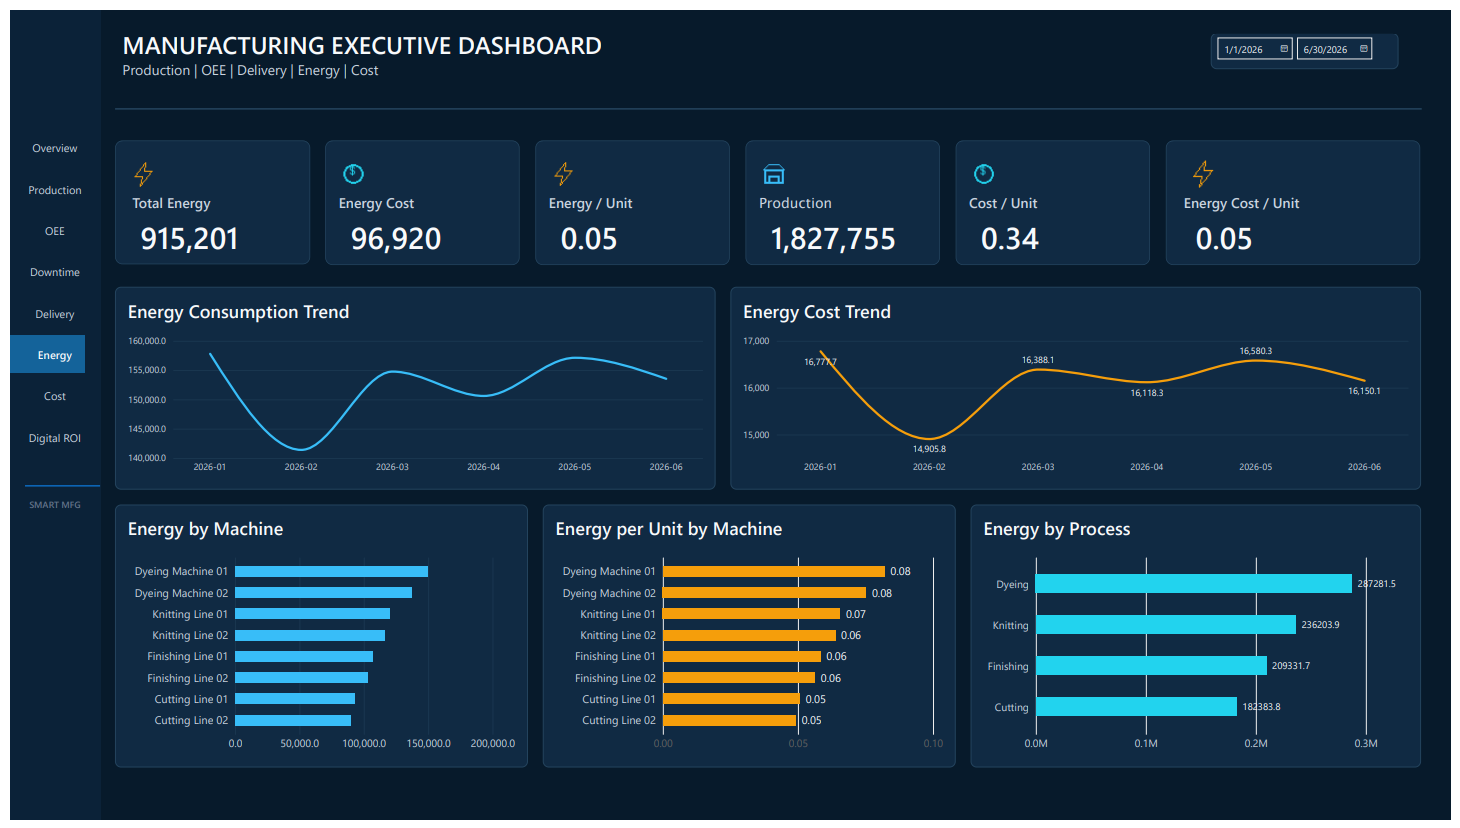

The dashboard page shown, as its layout file describes it:
{"tool":"powerbi","page":{"name":"Energy","canvas":[1920,1080],"ordinal":5},"visuals":[{"type":"textbox","box":[150,25,900,85],"z":0},{"type":"shape","box":[140,175,260,165],"z":0,"group":"g6"},{"type":"shape","box":[420,175,259.3,165.7],"z":0,"group":"g5"},{"type":"shape","box":[700,175,259.3,165.7],"z":0,"group":"g4"},{"type":"shape","box":[980,175,259.3,165.7],"z":0,"group":"g3"},{"type":"shape","box":[1260,175,259.3,165.7],"z":0,"group":"g2"},{"type":"shape","box":[1540,175,339.2,165.7],"z":0,"group":"g1"},{"type":"slicer","fields":{"Values":["Date_Table.Date"]},"box":[1600,32,250,48],"z":1000},{"type":"image","box":[158.2,198,38.3,42],"z":1000,"group":"g6"},{"type":"image","box":[438.2,198.1,38.2,42.2],"z":1000,"group":"g5"},{"type":"image","box":[718.2,198.1,38.2,42.2],"z":1000,"group":"g4"},{"type":"image","box":[998.2,198.1,38.2,42.2],"z":1000,"group":"g3"},{"type":"image","box":[1278.2,198.1,38.2,42.2],"z":1000,"group":"g2"},{"type":"image","box":[1563.8,198.1,50,42.2],"z":1000,"group":"g1"},{"type":"group","id":"g1","title":"Orders","box":[1540,175,340,165],"z":2000},{"type":"textbox","box":[158.2,245,182.5,30],"z":2000,"group":"g6"},{"type":"textbox","box":[438.2,245.3,182,30.1],"z":2000,"group":"g5"},{"type":"textbox","box":[718.2,245.3,182,30.1],"z":2000,"group":"g4"},{"type":"textbox","box":[998.2,245.3,182,30.1],"z":2000,"group":"g3"},{"type":"textbox","box":[1278.2,245.3,182,30.1],"z":2000,"group":"g2"},{"type":"textbox","box":[1563.8,245.3,238,30.1],"z":2000,"group":"g1"},{"type":"group","id":"g2","title":"Downtime","box":[1260,175,260,165],"z":3000},{"type":"cardVisual","fields":{"Data":["_measure.Total Energy"]},"box":[158.2,280,209.8,45],"z":3000,"group":"g6"},{"type":"cardVisual","fields":{"Data":["_measure.Energy Cost"]},"box":[438.2,280.5,209.3,45.2],"z":3000,"group":"g5"},{"type":"cardVisual","fields":{"Data":["_measure.Energy Cost per Unit"]},"box":[718.2,280.5,209.3,45.2],"z":3000,"group":"g4"},{"type":"cardVisual","fields":{"Data":["_measure.Total Production"]},"box":[998.2,280.5,209.3,45.2],"z":3000,"group":"g3"},{"type":"cardVisual","fields":{"Data":["_measure.Cost Per Unit"]},"box":[1278.2,280.5,209.3,45.2],"z":3000,"group":"g2"},{"type":"cardVisual","fields":{"Data":["_measure.Energy Cost per Unit"]},"box":[1563.8,280.5,273.7,45.2],"z":3000,"group":"g1"},{"type":"group","id":"g3","title":"OEE","box":[980,175,260,165],"z":4000},{"type":"group","id":"g4","title":"Achievement","box":[700,175,260,165],"z":5000},{"type":"group","id":"g5","title":"Target","box":[420,175,260,165],"z":6000},{"type":"group","id":"g6","title":"Production","box":[140,175,260,165],"z":7000},{"type":"lineChart","title":"Energy Consumption Trend","fields":{"Category":["Date_Table.Year Month"],"Y":["_measure.Total Energy"]},"box":[140,370,800,270],"z":8000},{"type":"lineChart","title":"Energy Cost Trend","fields":{"Category":["Date_Table.Year Month"],"Y":["_measure.Energy Cost"]},"box":[960,370,920,270],"z":9000},{"type":"clusteredBarChart","title":"Energy by Machine","fields":{"Category":["Energy.Machine Name"],"Y":["_measure.Total Energy"]},"box":[140,660,550,350],"z":10000},{"type":"clusteredBarChart","title":"Energy per Unit by Machine","fields":{"Category":["Energy.Machine Name"],"Y":["_measure.Energy per Unit"]},"box":[710,660,550,350],"z":11000},{"type":"clusteredBarChart","title":"Energy by Process","fields":{"Category":["Energy.Process"],"Y":["_measure.Total Energy"]},"box":[1280,660,600,350],"z":12000},{"type":"shape","title":"Sidebar Background","box":[0,0,120,1080],"z":13000},{"type":"shape","box":[0,434.4,99.4,49.7],"z":14000},{"type":"textbox","box":[10,174,100,25],"z":15000},{"type":"textbox","box":[10,230,100,25],"z":16000},{"type":"textbox","box":[10,285,100,25],"z":17000},{"type":"textbox","box":[10,340,100,25],"z":18000},{"type":"textbox","box":[10,395,100,25],"z":19000},{"type":"textbox","box":[10,450,100,25],"z":20000},{"type":"textbox","box":[10,505,100,25],"z":21000},{"type":"textbox","box":[10,560,100,25],"z":22000},{"type":"shape","box":[20,625,100,20],"z":23000},{"type":"textbox","box":[10,650,100,25],"z":24000},{"type":"shape","box":[140,106.4,1741.2,53.9],"z":25000}]}

Visuals, with their boxes on the page's 1920x1080 design canvas (x1, y1, x2, y2). These are canvas units, not pixel positions in the 1460x828 screenshot, which may show the page scaled, cropped or inside an application window:
textbox: rect(150, 25, 1050, 110)
shape: rect(140, 175, 400, 340)
shape: rect(420, 175, 679, 341)
shape: rect(700, 175, 959, 341)
shape: rect(980, 175, 1239, 341)
shape: rect(1260, 175, 1519, 341)
shape: rect(1540, 175, 1879, 341)
slicer - Date_Table.Date: rect(1600, 32, 1850, 80)
image: rect(158, 198, 196, 240)
image: rect(438, 198, 476, 240)
image: rect(718, 198, 756, 240)
image: rect(998, 198, 1036, 240)
image: rect(1278, 198, 1316, 240)
image: rect(1564, 198, 1614, 240)
"Orders" group: rect(1540, 175, 1880, 340)
textbox: rect(158, 245, 341, 275)
textbox: rect(438, 245, 620, 275)
textbox: rect(718, 245, 900, 275)
textbox: rect(998, 245, 1180, 275)
textbox: rect(1278, 245, 1460, 275)
textbox: rect(1564, 245, 1802, 275)
"Downtime" group: rect(1260, 175, 1520, 340)
cardVisual - _measure.Total Energy: rect(158, 280, 368, 325)
cardVisual - _measure.Energy Cost: rect(438, 280, 648, 326)
cardVisual - _measure.Energy Cost per Unit: rect(718, 280, 928, 326)
cardVisual - _measure.Total Production: rect(998, 280, 1208, 326)
cardVisual - _measure.Cost Per Unit: rect(1278, 280, 1488, 326)
cardVisual - _measure.Energy Cost per Unit: rect(1564, 280, 1838, 326)
"OEE" group: rect(980, 175, 1240, 340)
"Achievement" group: rect(700, 175, 960, 340)
"Target" group: rect(420, 175, 680, 340)
"Production" group: rect(140, 175, 400, 340)
"Energy Consumption Trend" lineChart: rect(140, 370, 940, 640)
"Energy Cost Trend" lineChart: rect(960, 370, 1880, 640)
"Energy by Machine" clusteredBarChart: rect(140, 660, 690, 1010)
"Energy per Unit by Machine" clusteredBarChart: rect(710, 660, 1260, 1010)
"Energy by Process" clusteredBarChart: rect(1280, 660, 1880, 1010)
"Sidebar Background" shape: rect(0, 0, 120, 1080)
shape: rect(0, 434, 99, 484)
textbox: rect(10, 174, 110, 199)
textbox: rect(10, 230, 110, 255)
textbox: rect(10, 285, 110, 310)
textbox: rect(10, 340, 110, 365)
textbox: rect(10, 395, 110, 420)
textbox: rect(10, 450, 110, 475)
textbox: rect(10, 505, 110, 530)
textbox: rect(10, 560, 110, 585)
shape: rect(20, 625, 120, 645)
textbox: rect(10, 650, 110, 675)
shape: rect(140, 106, 1881, 160)
